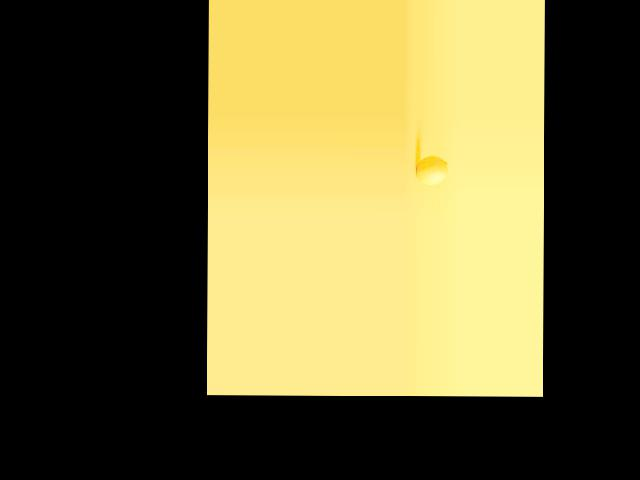lemon: (415, 153, 451, 192)
